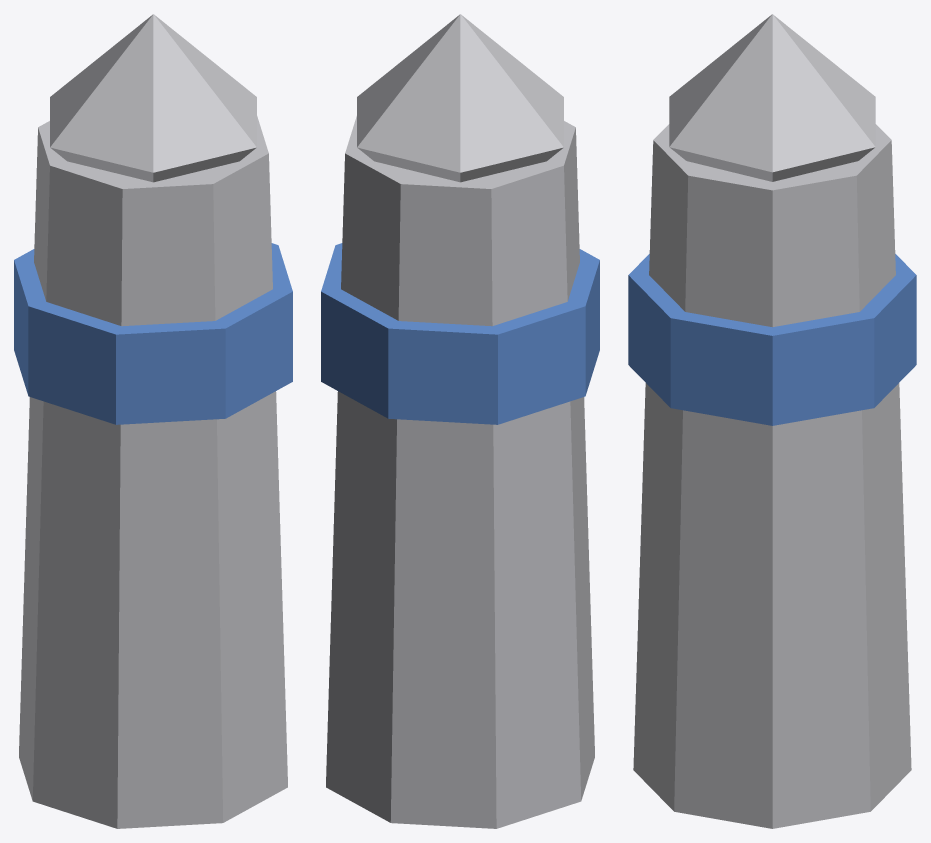
File: bollard.glb
3 views of the same model, side by side, from view 1: azimuth 30°, elevation 25°; view 2: azimuth 150°, elevation 25°; view 3: azimuth 270°, elevation 25° (orthographic).
Size of the model in its own units: 0.29 by 0.84 by 0.29.
